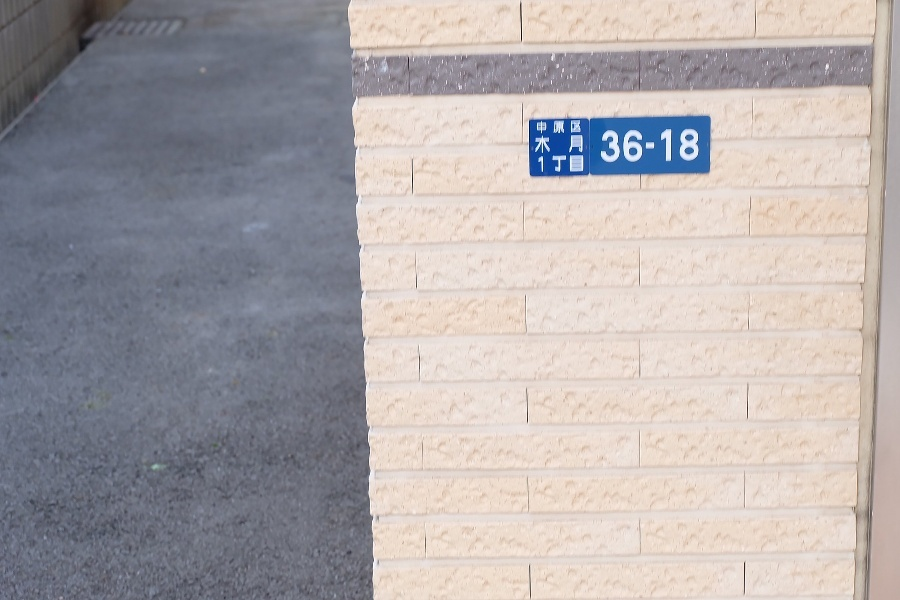text: (609, 129, 624, 163), (625, 129, 640, 163), (641, 129, 656, 163), (657, 129, 672, 163), (673, 129, 688, 163), (689, 129, 699, 163), (545, 136, 560, 154), (561, 136, 576, 154), (545, 156, 560, 173), (561, 156, 576, 173), (545, 120, 560, 135), (561, 120, 576, 135), (602, 129, 608, 163), (536, 136, 544, 154), (577, 156, 584, 173), (577, 136, 583, 154), (537, 120, 544, 135), (539, 156, 544, 173), (577, 120, 581, 135)
